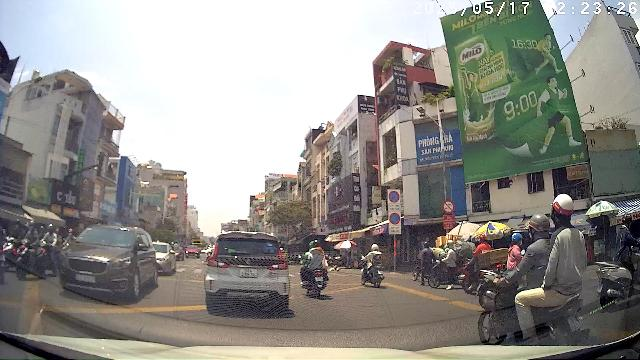130-cam-dung-va-do-xe: (388, 191, 399, 203)
131a-cam-do-xe: (390, 212, 400, 223)
